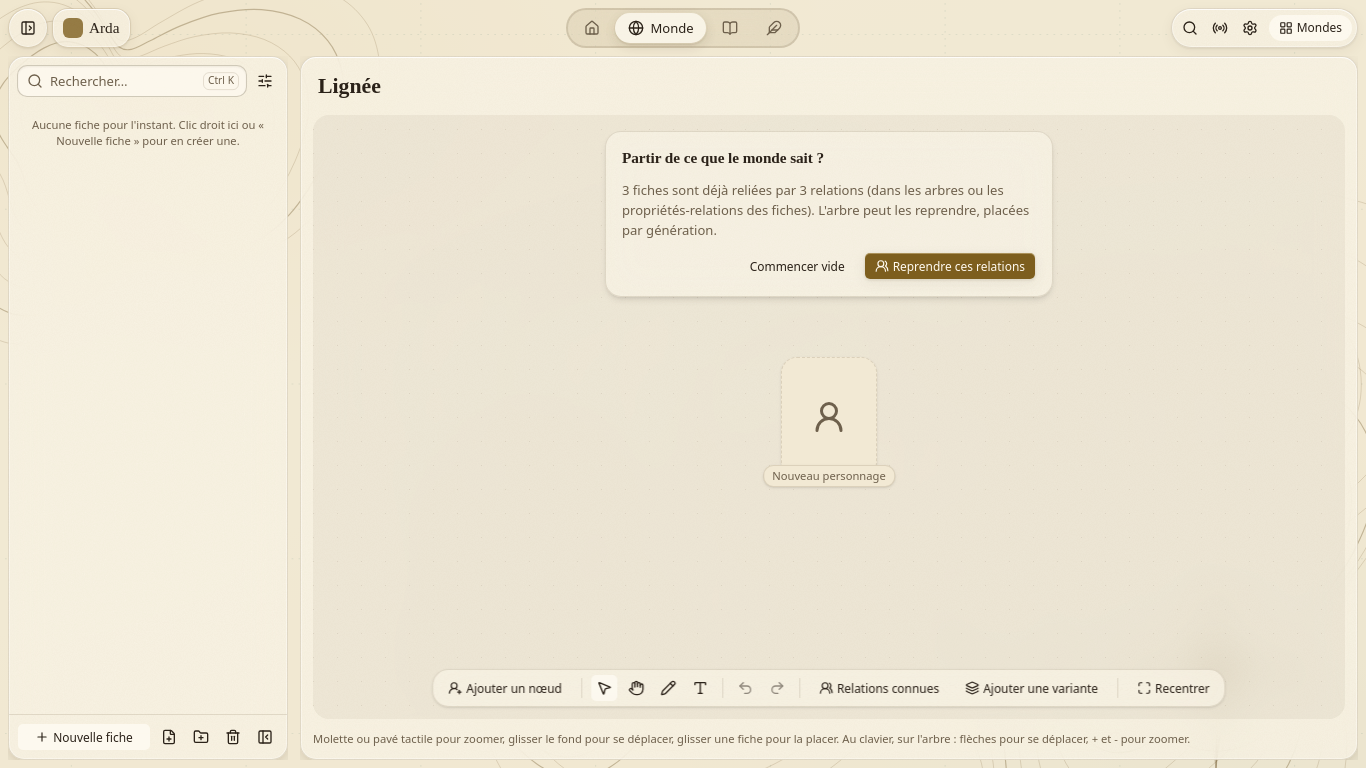
a blank tree offers to start from the known relations, placed by generation
The width and height of the screenshot is (1366, 768).
Expected: the element "Partir de ce que le monde sait ?" shows "3 fiches sont déjà reliées par 3 relations", [622,181,1029,239]
Click the button "Reprendre ces relations". click: (950, 266)
box: [864,252,1036,280]
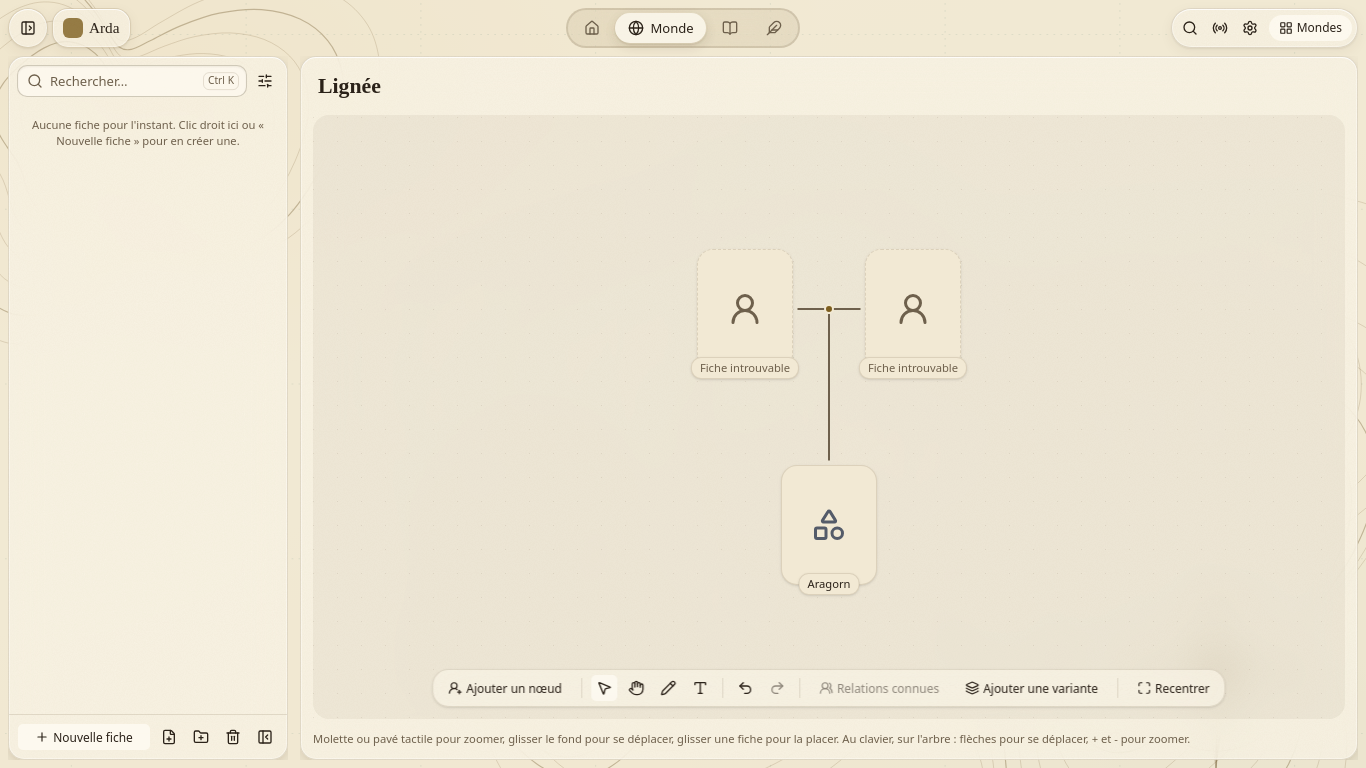
Result: the heading "Partir de ce que le monde sait ?" is gone
Result: the button with aria-label "L'arbre montre déjà toutes les relations connues" is disabled at [808,674,950,702]
